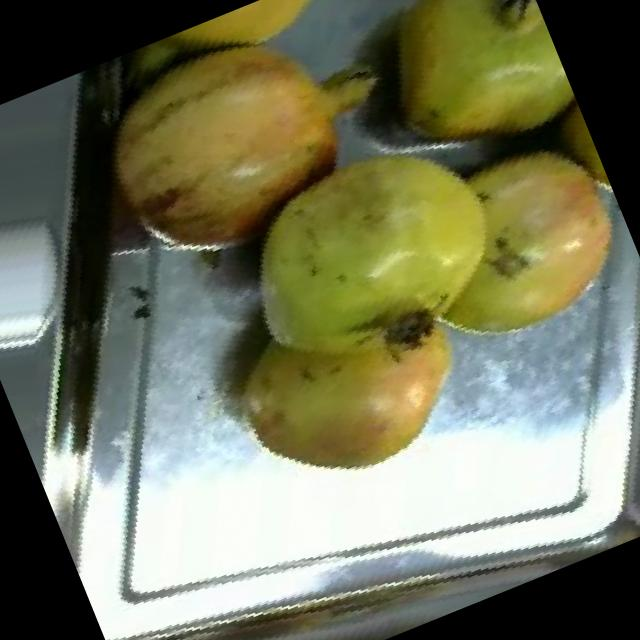fruit: (39, 0, 401, 324), (179, 247, 512, 546), (354, 102, 640, 396), (319, 0, 595, 220)
